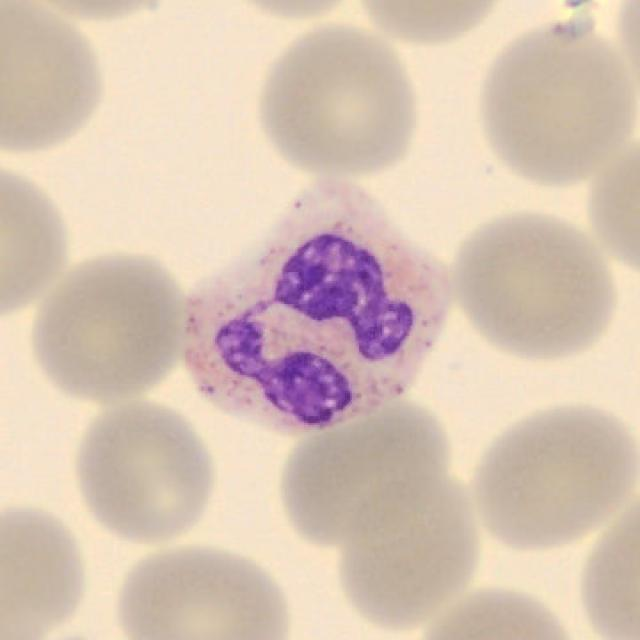Neutrofilo segmentado: (181, 180, 453, 437)
